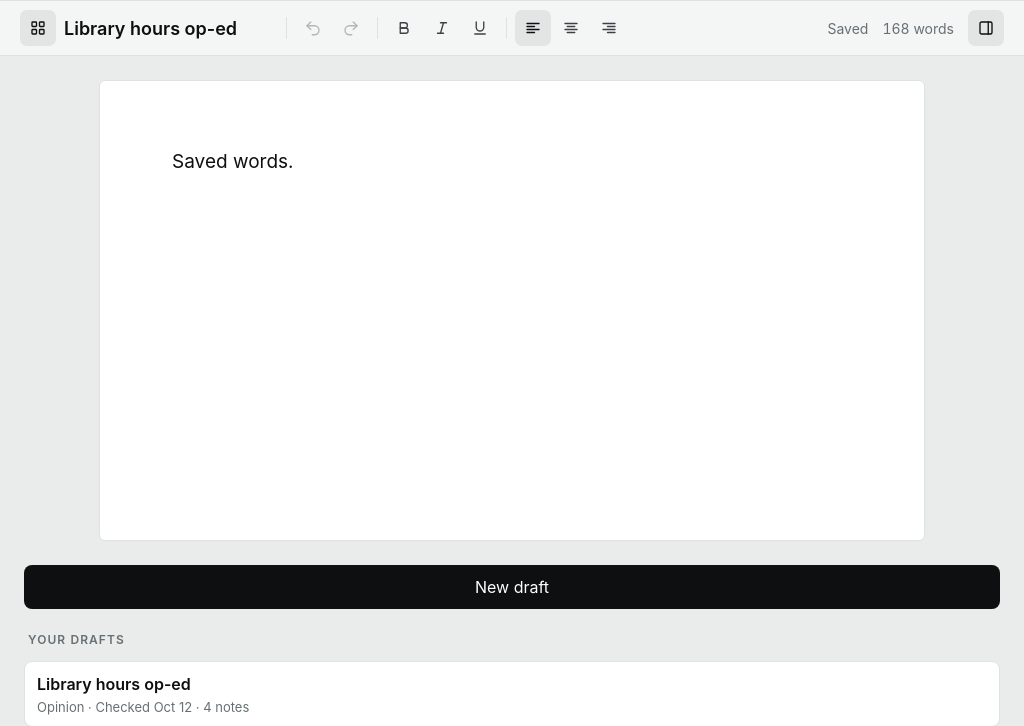
with drafts › deleting › is not offered when starting a new draft
The width and height of the screenshot is (1024, 726).
What coordinates should you click on to do the following:
click the button "New draft"
I would click on:
 (512, 587)
Its box is top-left (24, 565), bottom-right (1000, 609).
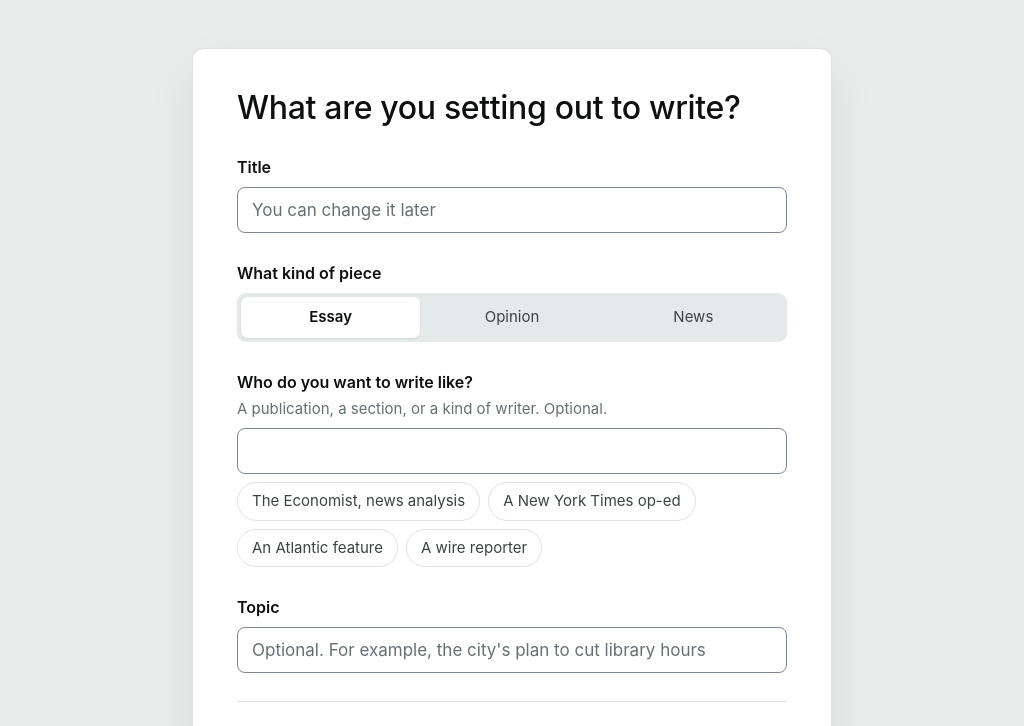
Expected: the button "Delete this draft" is gone
